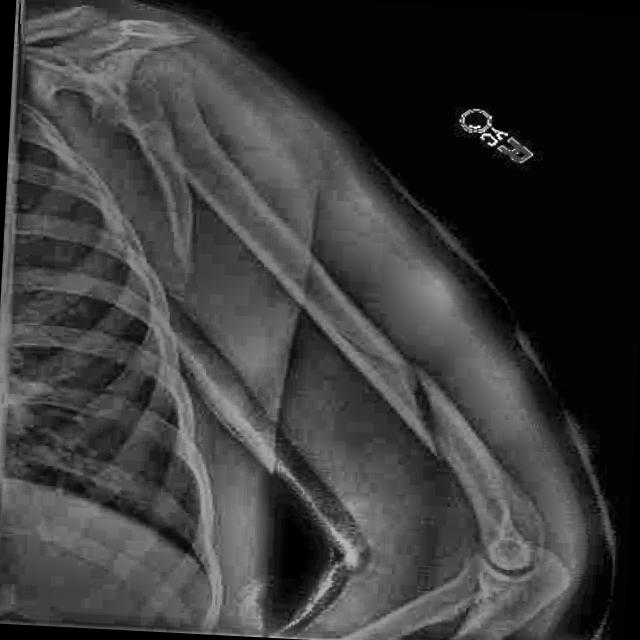humerus: (348, 294, 491, 506)
